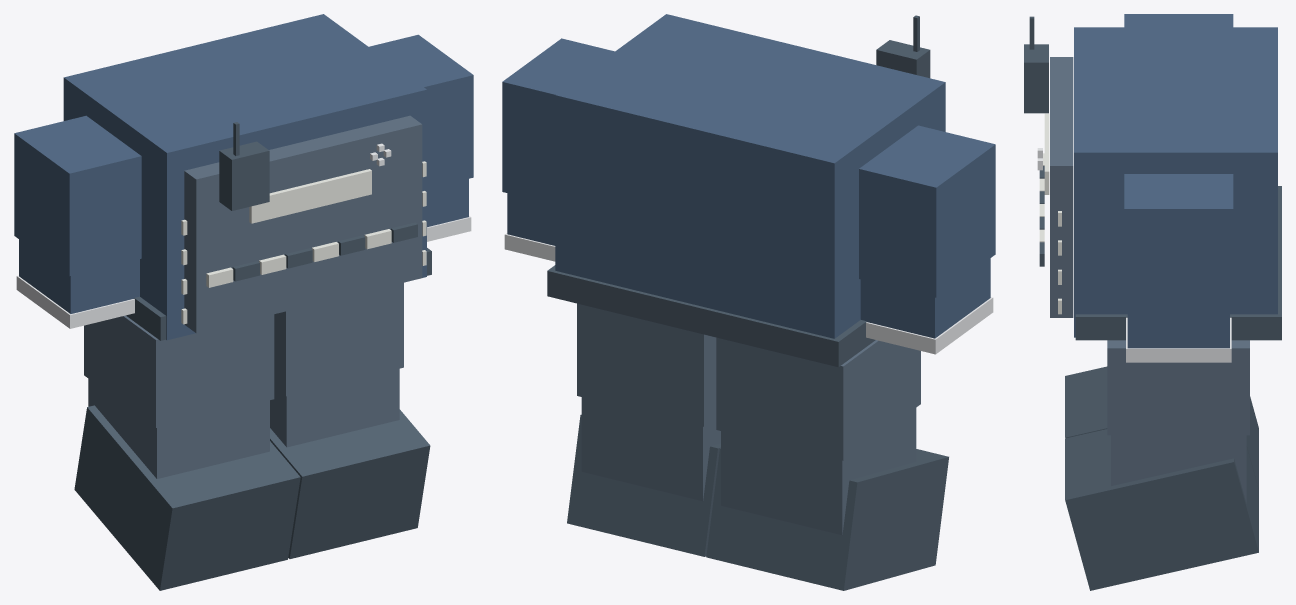
Rendered from police-navy.glb.
The picture shows the model from 3 angles, left to right: view 1: azimuth 30°, elevation 25°; view 2: azimuth 150°, elevation 25°; view 3: azimuth 270°, elevation 25°; orthographic projection. The views are drawn at different scales.
Parts seen in each view (by area): view 1: jacket, duty-vest, shoe-Right, upper-sleeve-Right, trouser-Right, shoe-Left, trouser-Left, lower-trouser-Right, upper-sleeve-Left, lower-trouser-Left, lower-sleeve-Right, vest-label (+5 smaller); view 2: jacket, upper-sleeve-Right, shoe-Right, trouser-Right, trouser-Left, lower-trouser-Right, lower-trouser-Left, duty-belt, upper-sleeve-Left, shoe-Left, lower-sleeve-Right, cuff-Right (+3 smaller); view 3: jacket, shoe-Left, upper-sleeve-Left, trouser-Left, duty-vest, lower-trouser-Left, lower-sleeve-Left, shoe-Right, duty-belt, radio, cuff-Left, upper-sleeve-Right (+1 smaller).
Part boxes in pixels (<box>): jacket: <box>63,14,426,340</box>; duty-vest: <box>184,115,422,333</box>; shoe-Right: <box>74,405,300,590</box>; upper-sleeve-Right: <box>14,115,141,276</box>; trouser-Right: <box>84,314,274,427</box>; shoe-Left: <box>270,409,430,558</box>; trouser-Left: <box>274,282,403,396</box>; lower-trouser-Right: <box>88,379,269,478</box>; upper-sleeve-Left: <box>369,34,473,188</box>; lower-trouser-Left: <box>270,368,399,447</box>; lower-sleeve-Right: <box>19,239,139,313</box>; vest-label: <box>249,169,371,223</box>; jacket: <box>555,14,945,338</box>; upper-sleeve-Right: <box>859,125,995,297</box>; shoe-Right: <box>706,448,948,590</box>; trouser-Right: <box>716,337,920,460</box>; trouser-Left: <box>577,303,716,426</box>; lower-trouser-Right: <box>721,408,916,534</box>; lower-trouser-Left: <box>581,397,720,501</box>; duty-belt: <box>547,265,875,367</box>; upper-sleeve-Left: <box>502,38,614,204</box>; shoe-Left: <box>567,414,720,556</box>; lower-sleeve-Right: <box>860,258,990,338</box>; cuff-Right: <box>866,297,993,354</box>; jacket: <box>1074,27,1277,337</box>; shoe-Left: <box>1065,429,1258,590</box>; upper-sleeve-Left: <box>1124,174,1233,309</box>; trouser-Left: <box>1107,340,1249,435</box>; duty-vest: <box>1050,57,1073,317</box>; lower-trouser-Left: <box>1111,435,1246,503</box>; lower-sleeve-Left: <box>1127,310,1229,348</box>; shoe-Right: <box>1065,366,1258,489</box>; duty-belt: <box>1075,186,1281,340</box>; radio: <box>1024,44,1048,113</box>; cuff-Left: <box>1126,317,1231,362</box>; upper-sleeve-Right: <box>1124,14,1233,27</box>.
Bounding box in the file's own units: 1.07 × 1.21 × 0.6.
